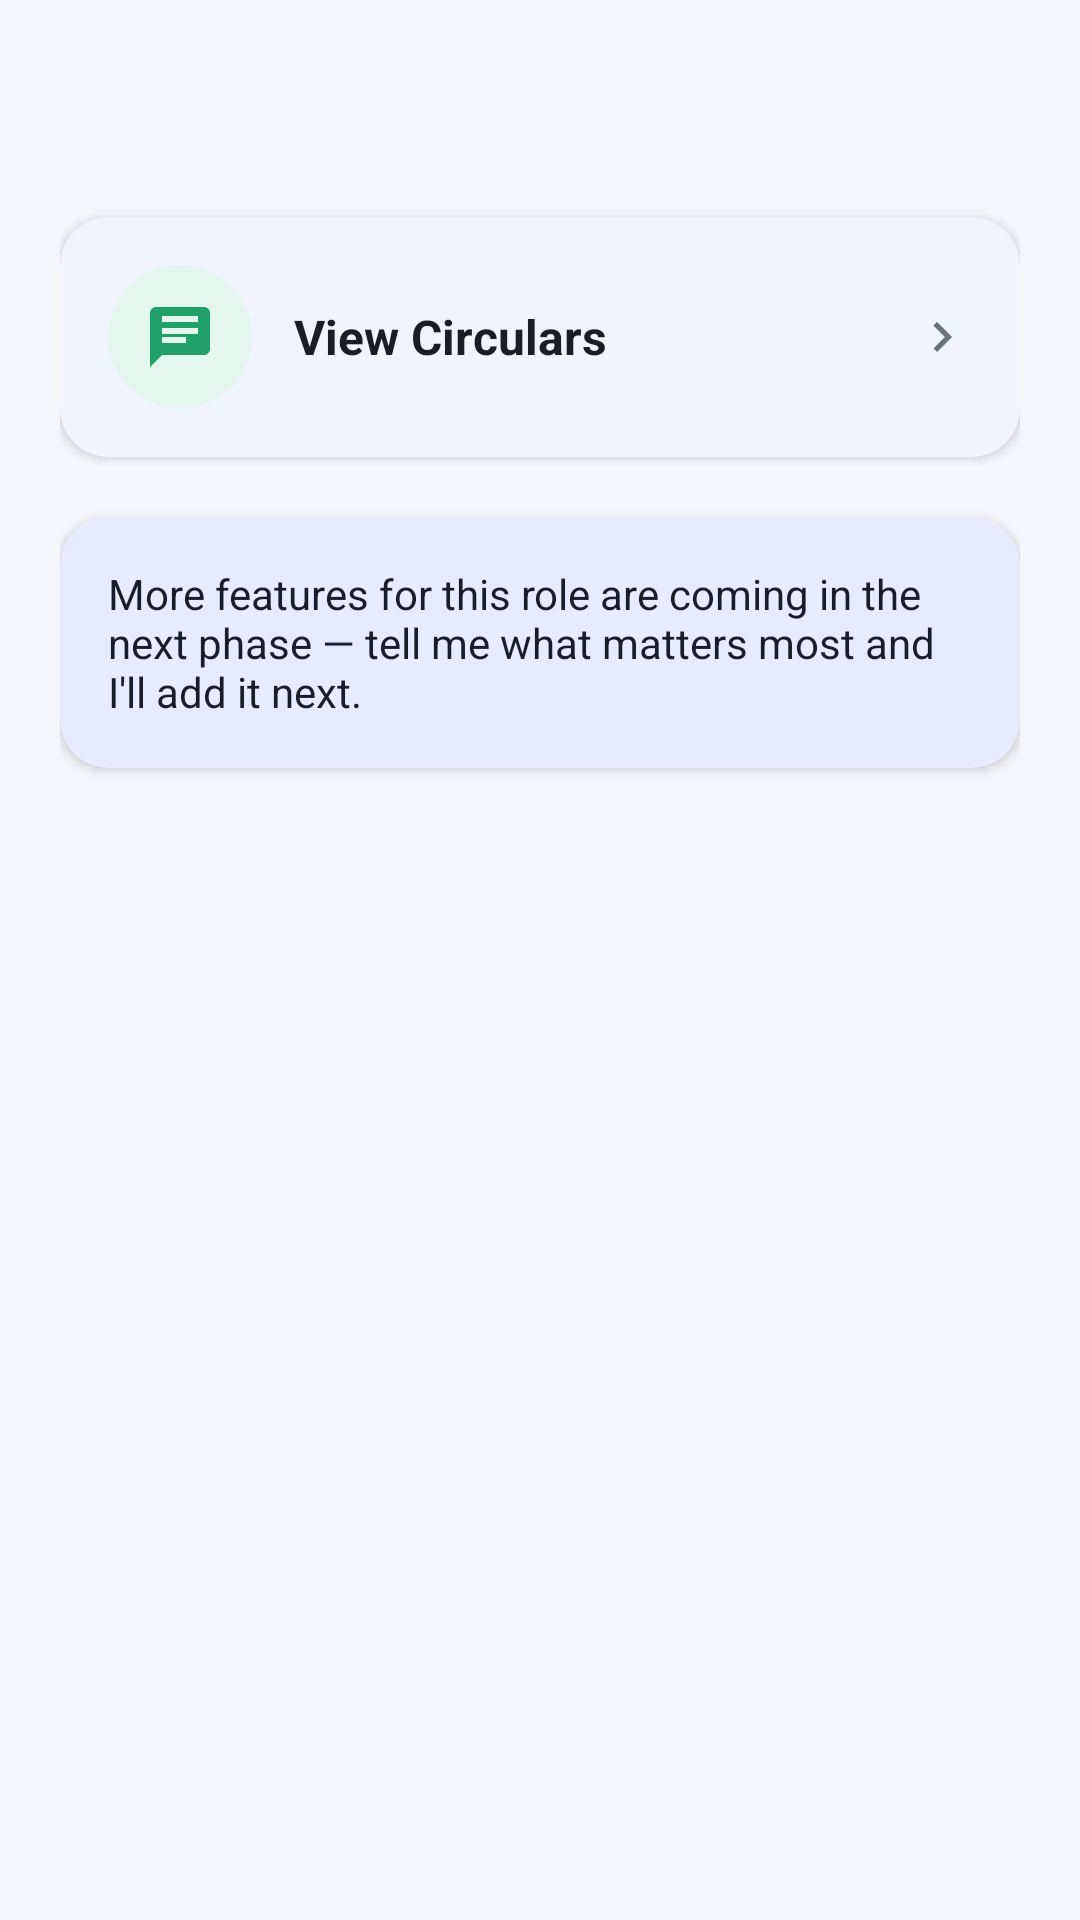

Icons on this 1080px x 1920px Android screen, each with the point to tap as point (x, y):
chevron right: point (942, 337)
notice: point (180, 337)
